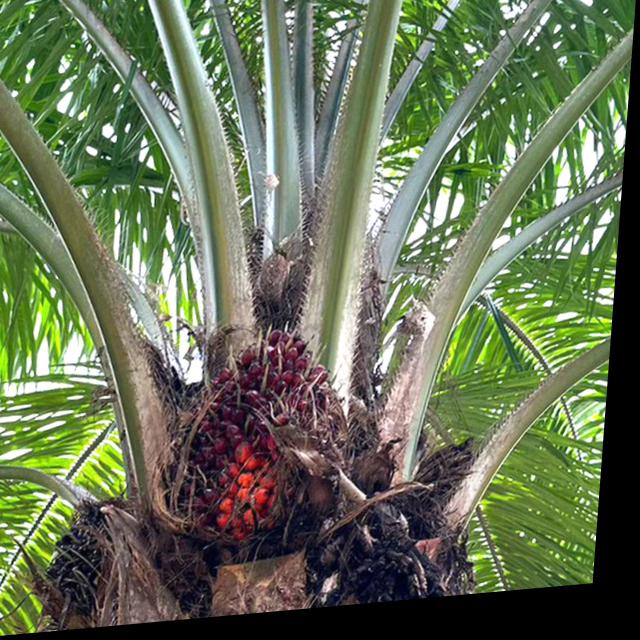ripe: (143, 306, 395, 582)
